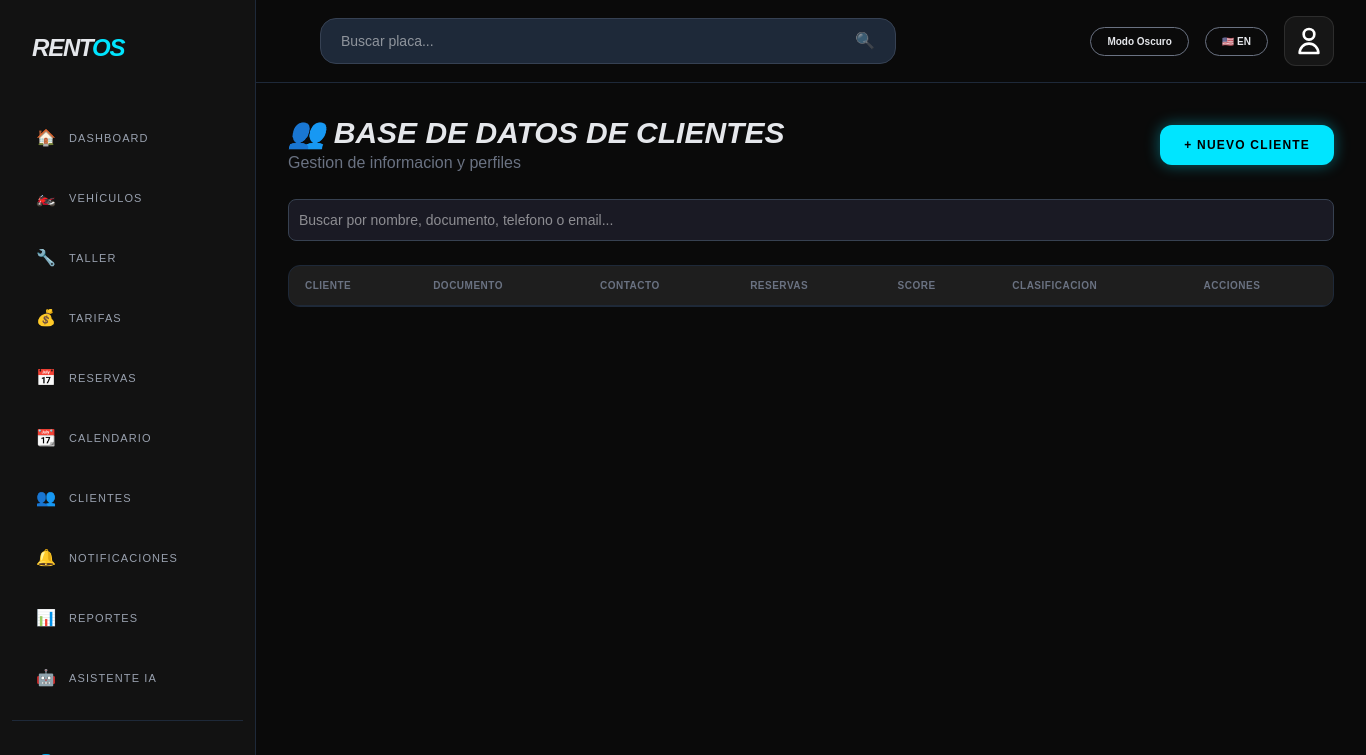
Test case: ClientesPage (HU 3.1) › renders customer form fields in modal
Click the button "+ Nuevo Cliente": point(1247, 145) left=1160, top=125, right=1334, bottom=165
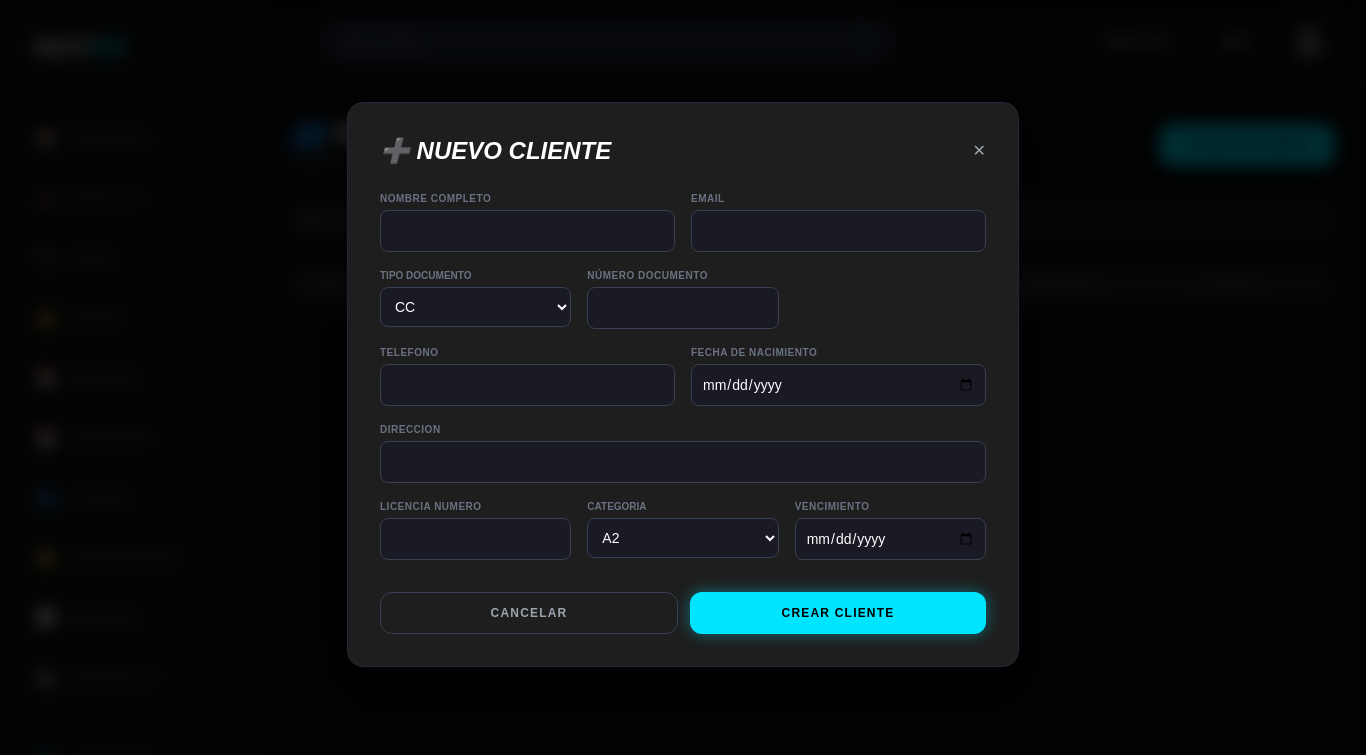
Now the field labelled "Nombre Completo" is shown, box left=380, top=210, right=675, bottom=252
Now the field labelled "Email" is shown, box left=691, top=210, right=986, bottom=252
Now the date field labelled "Fecha de Nacimiento" is shown, box left=691, top=364, right=986, bottom=406
